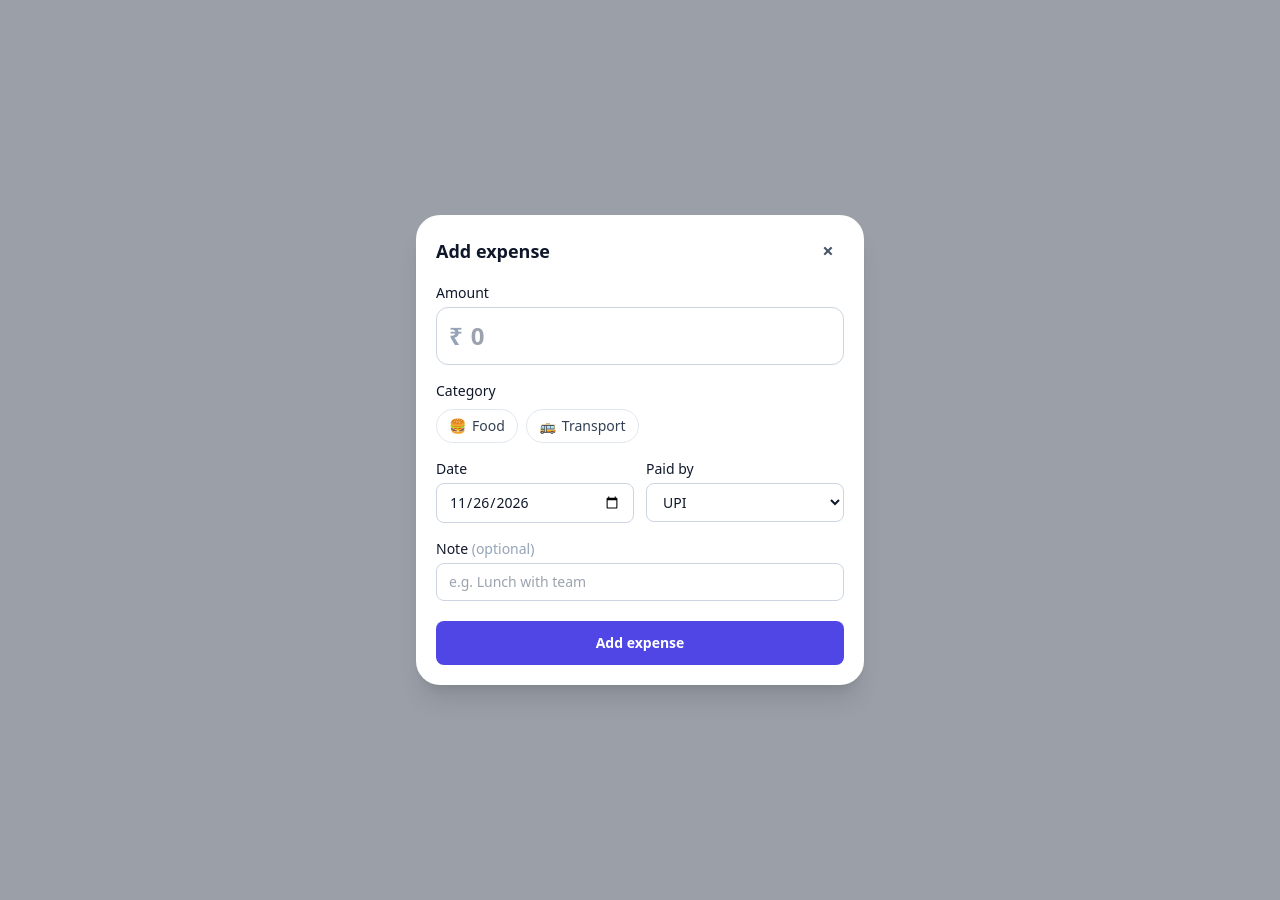
Scenario: add mode › asks for an amount before saving
Click the button "Add expense". click: x=640, y=643
box: [436,621,844,665]
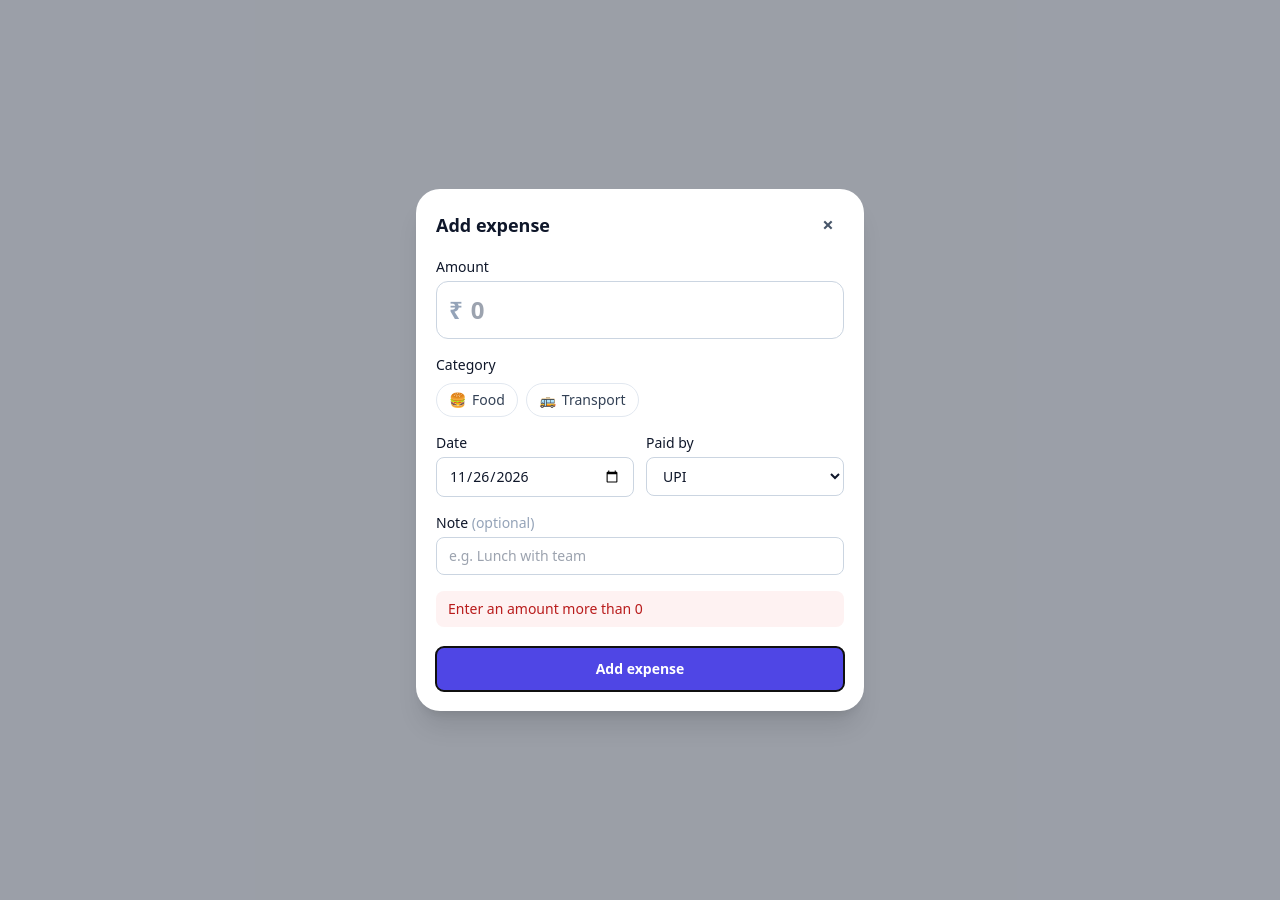
Result: the text "Enter an amount more than 0" is shown at [436,591,844,627]
